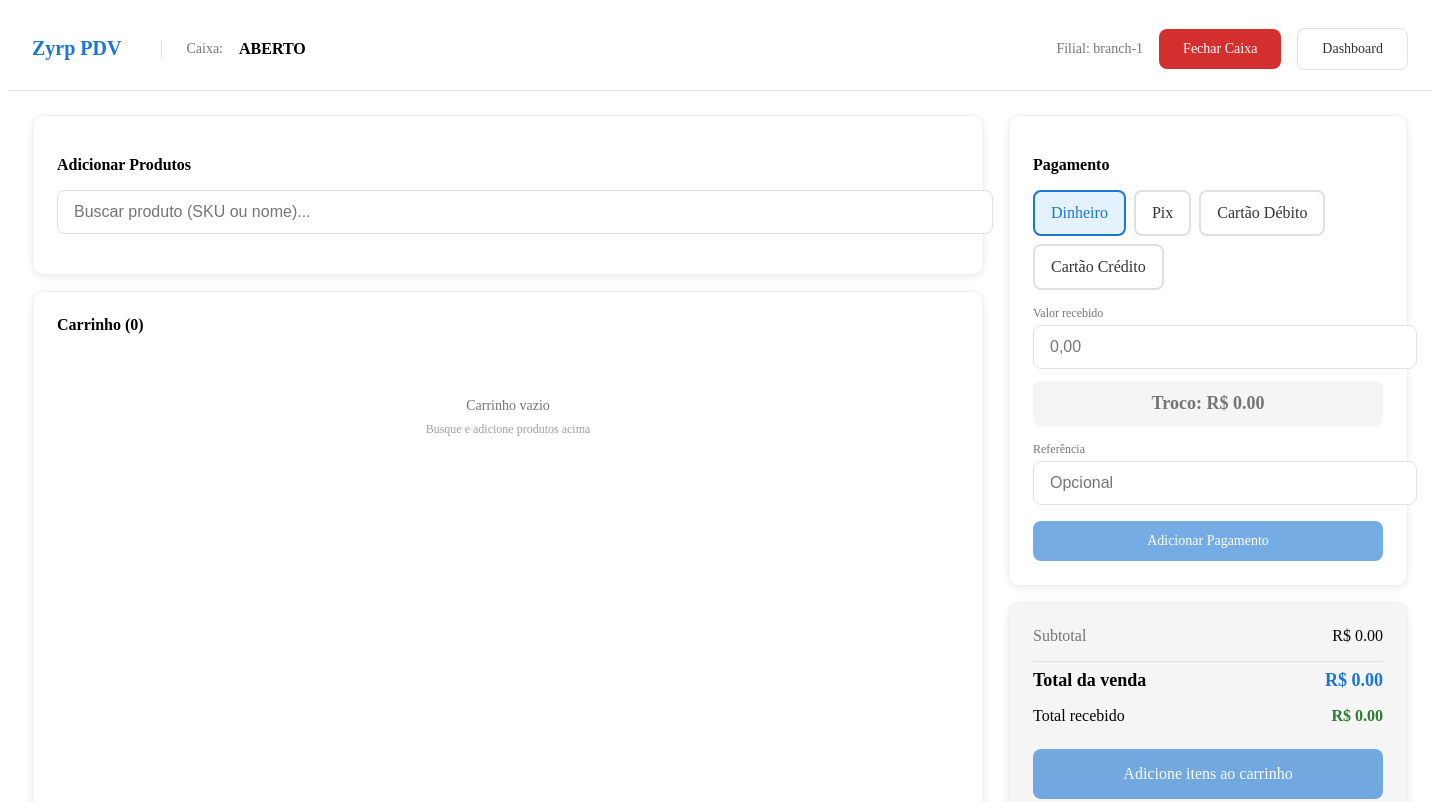
Scenario: Sale › accepts an exact two-decimal payment for a fractional floating-point total
In the field with placeholder "Buscar produto (SKU ou nome)...": (525, 212) [57,190,993,234], type "Produto Arredondado"
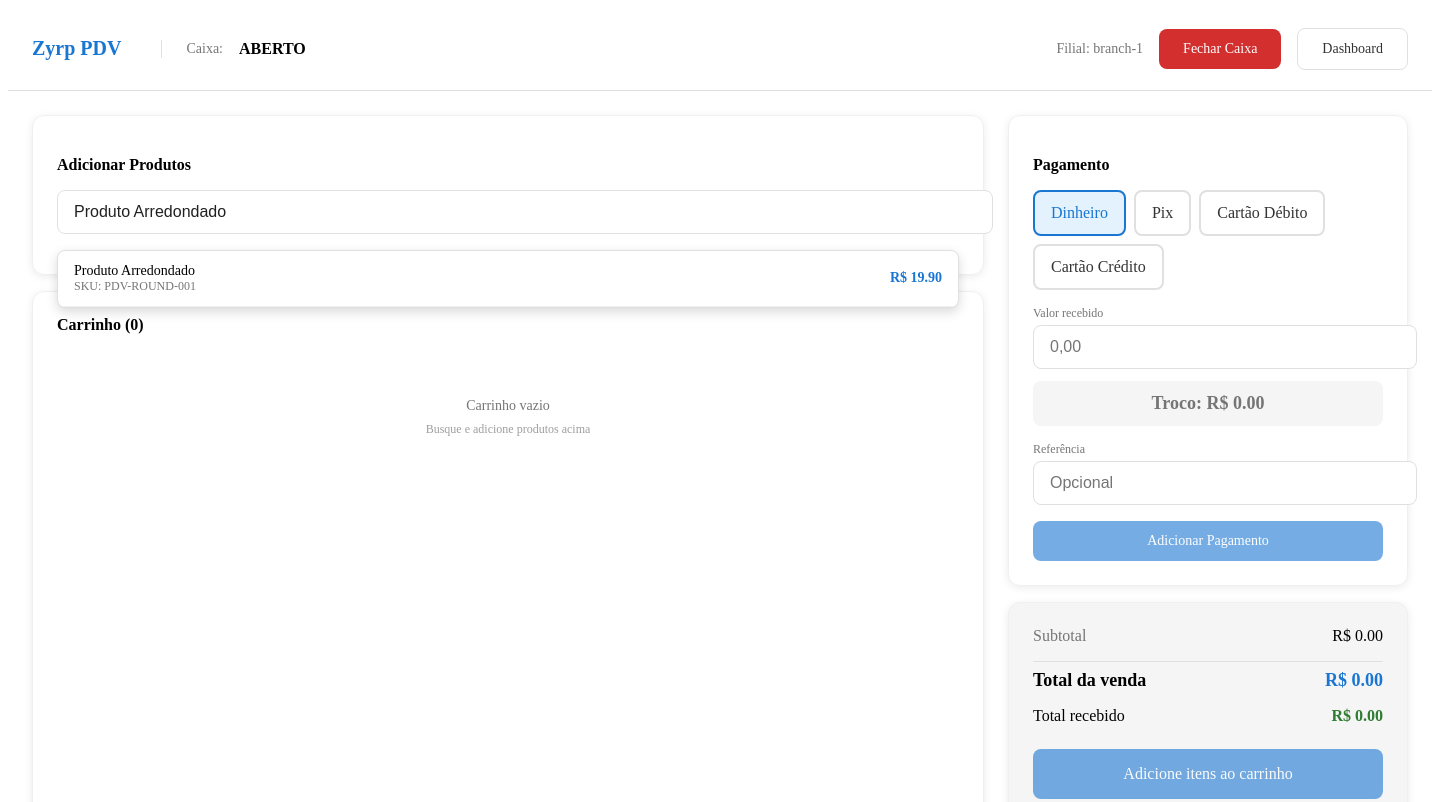
Click the text "Produto Arredondado": (135, 271) [74,263,196,279]
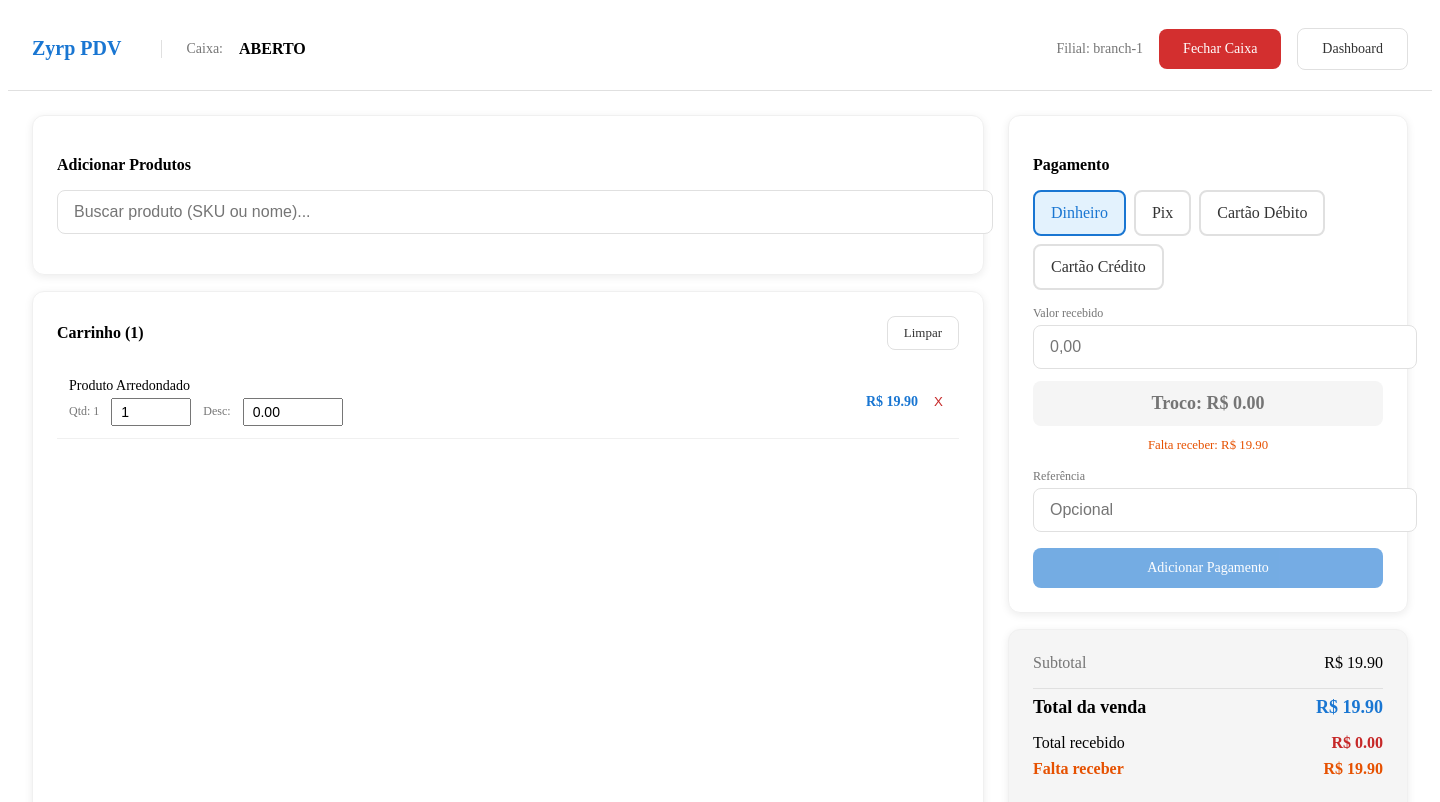
Replace the text in the 2nd number field with "3": (151, 412) [111,398,191,426]
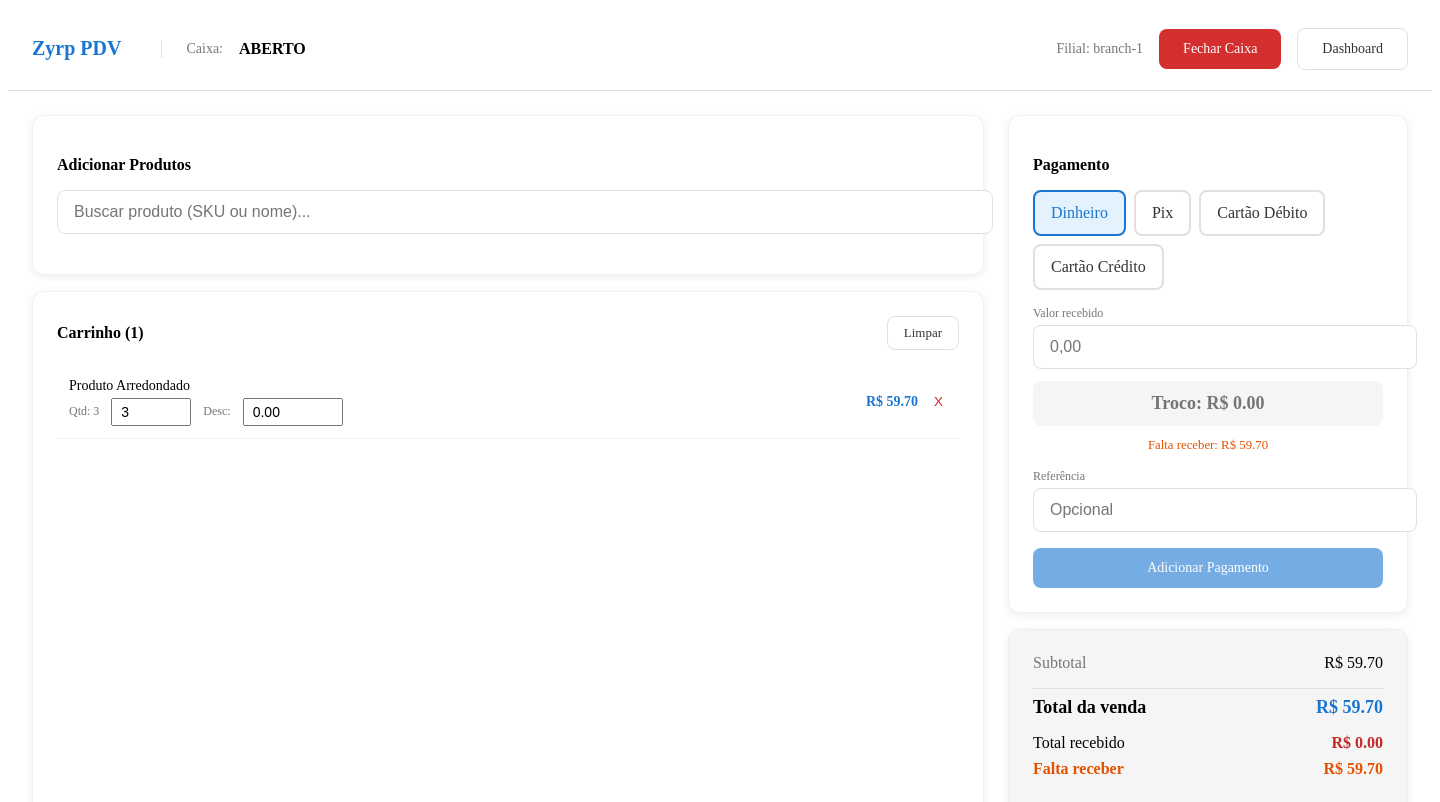
In the number field with placeholder "0,00": (1225, 347) [1033,325,1417,369], type "59.70"
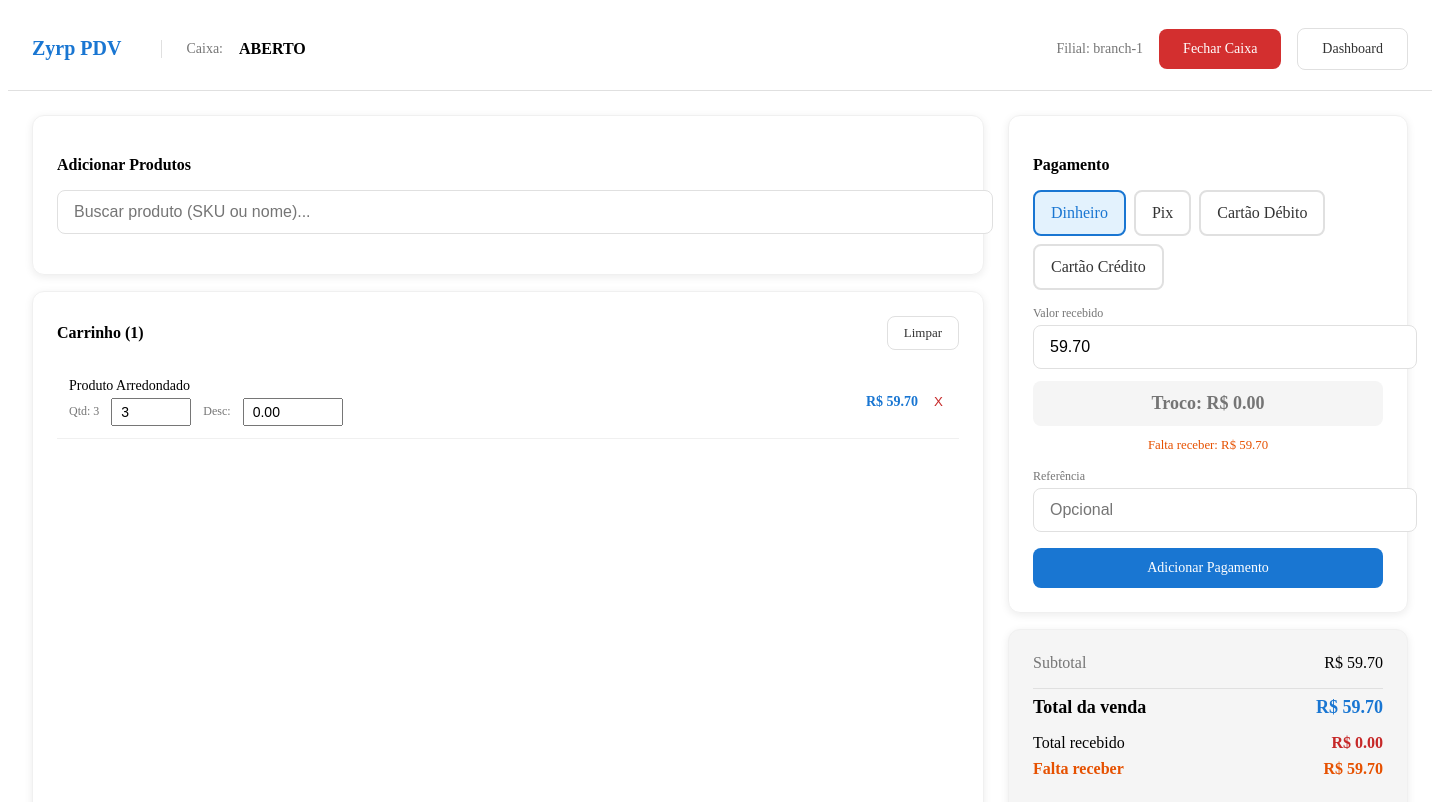
Click the button "Adicionar Pagamento": (1208, 568) [1033,548,1383,588]
(page scrolled)
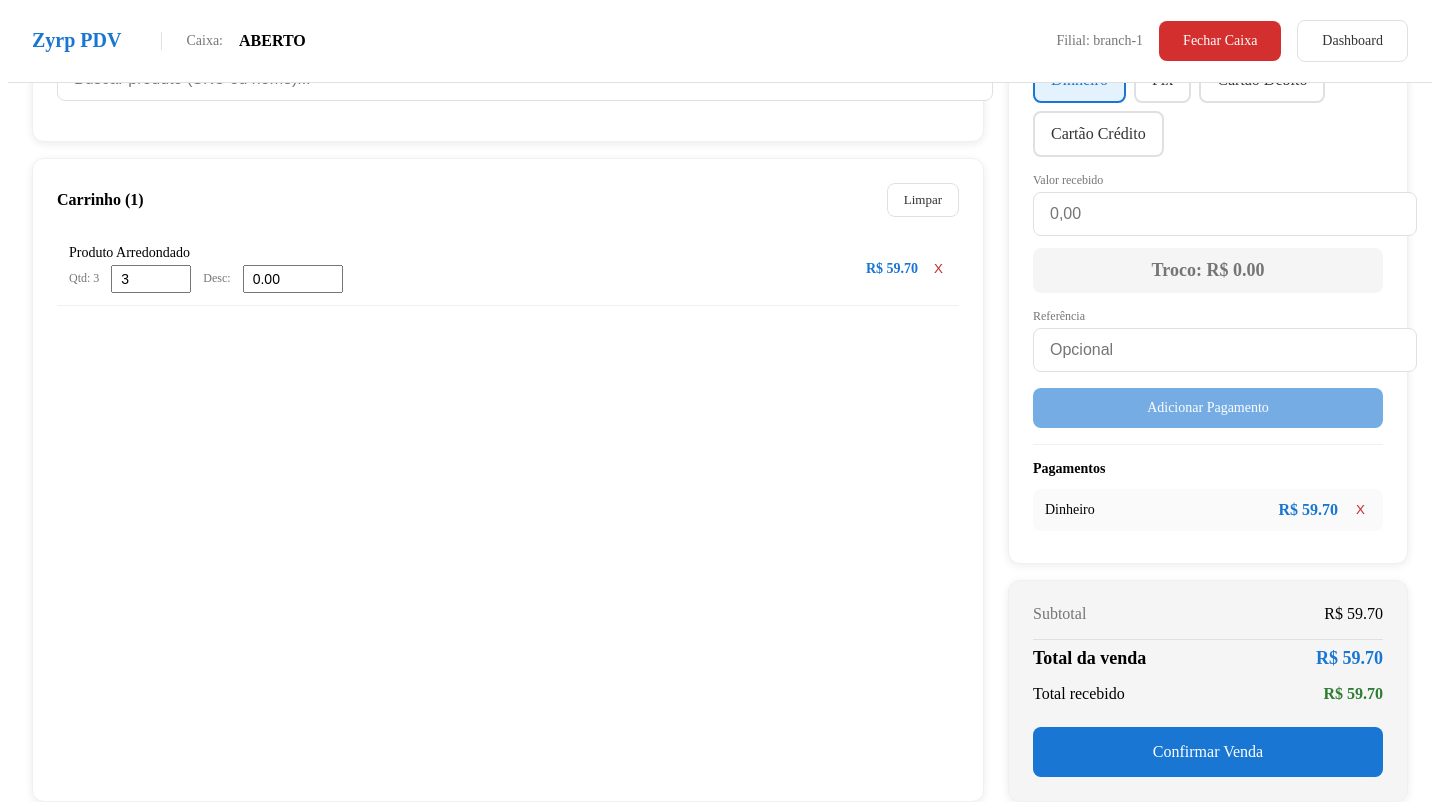
Check: the button "Confirmar Venda" is enabled
Click the button "Confirmar Venda": (1208, 752) [1033,727,1383,777]
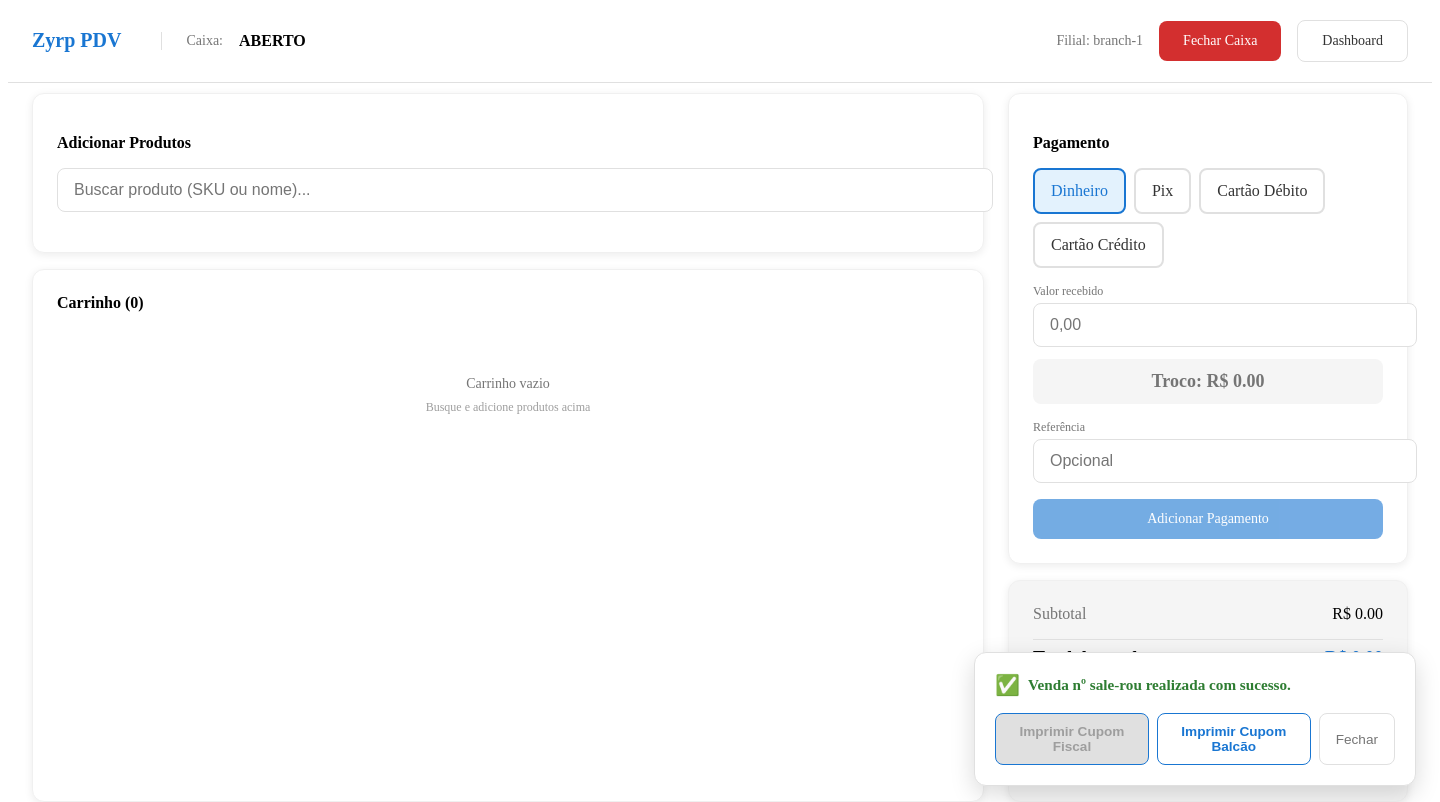
Check: the message is shown, box [974,652,1416,786]
